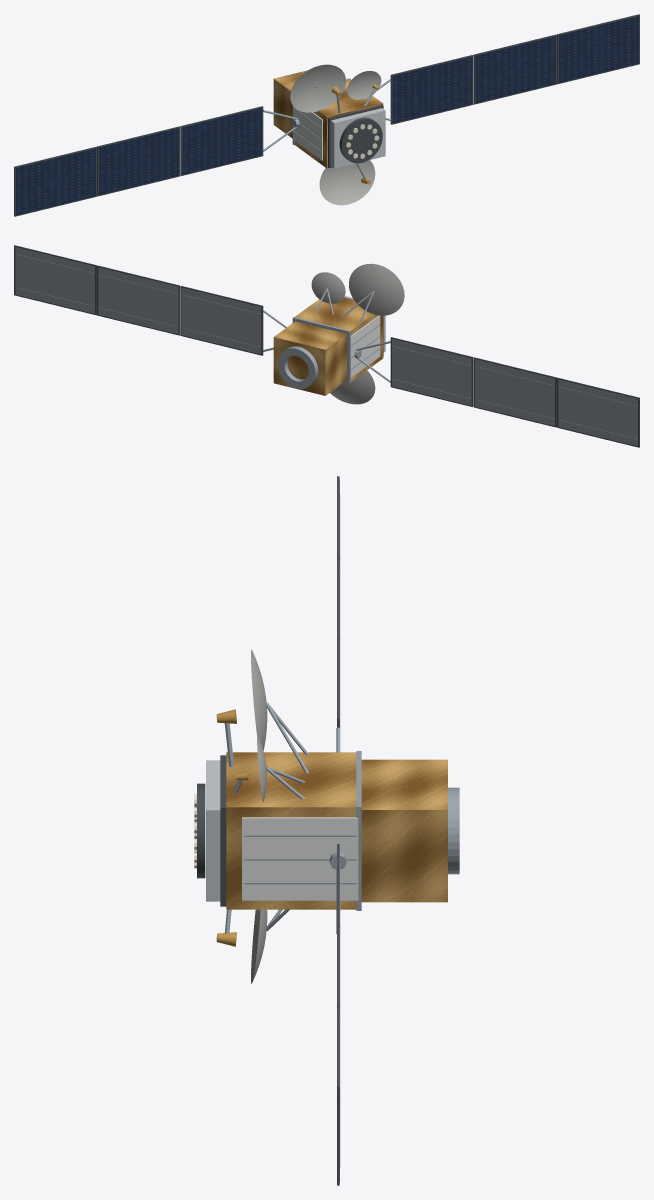
The model's file is ref-i4k-39234.glb.
3 views of the same model, one above another, from view 1: azimuth 30°, elevation 25°; view 2: azimuth 150°, elevation 25°; view 3: azimuth 270°, elevation 25° (orthographic). The views are drawn at different scales.
Parts seen in each view (by area): view 1: Solar cell panel (×6), Communications reflector (×3), Solar panel frame (×6), Planar antenna aperture, Antenna equipment shelf, Payload module, Service module, Radiator face, Earth-facing deck; view 2: Rear array substrate (×6), Communications reflector (×3), Service module, Solar panel frame (×6), Payload module, Radiator face, Launch adapter ring, Module interface; view 3: Service module, Payload module, Radiator face, Antenna equipment shelf, Earth-facing deck, Launch adapter ring, Communications reflector.
Part boxes in pixels (box(x1,y1,x2,y2)): Solar cell panel (×6): box(16, 16, 638, 215); Communications reflector (×3): box(290, 64, 381, 205); Solar panel frame (×6): box(14, 14, 639, 216); Planar antenna aperture: box(339, 117, 382, 163); Antenna equipment shelf: box(330, 108, 385, 168); Payload module: box(294, 79, 383, 168); Service module: box(273, 70, 307, 138); Radiator face: box(292, 105, 322, 160); Earth-facing deck: box(328, 105, 383, 168); Rear array substrate (×6): box(15, 247, 637, 446); Communications reflector (×3): box(311, 263, 404, 404); Service module: box(273, 321, 346, 395); Solar panel frame (×6): box(14, 245, 639, 447); Payload module: box(295, 297, 383, 381); Radiator face: box(350, 315, 380, 377); Launch adapter ring: box(277, 346, 318, 388); Module interface: box(292, 317, 350, 383); Service module: box(361, 759, 447, 902); Payload module: box(226, 752, 356, 909); Radiator face: box(242, 817, 358, 900); Antenna equipment shelf: box(206, 760, 220, 901); Earth-facing deck: box(220, 755, 226, 906); Launch adapter ring: box(448, 787, 459, 874); Communications reflector: box(251, 649, 267, 750).
Size of the model in its own units: 19.97 by 4.46 by 3.67.
10 materials, 2 textured.
